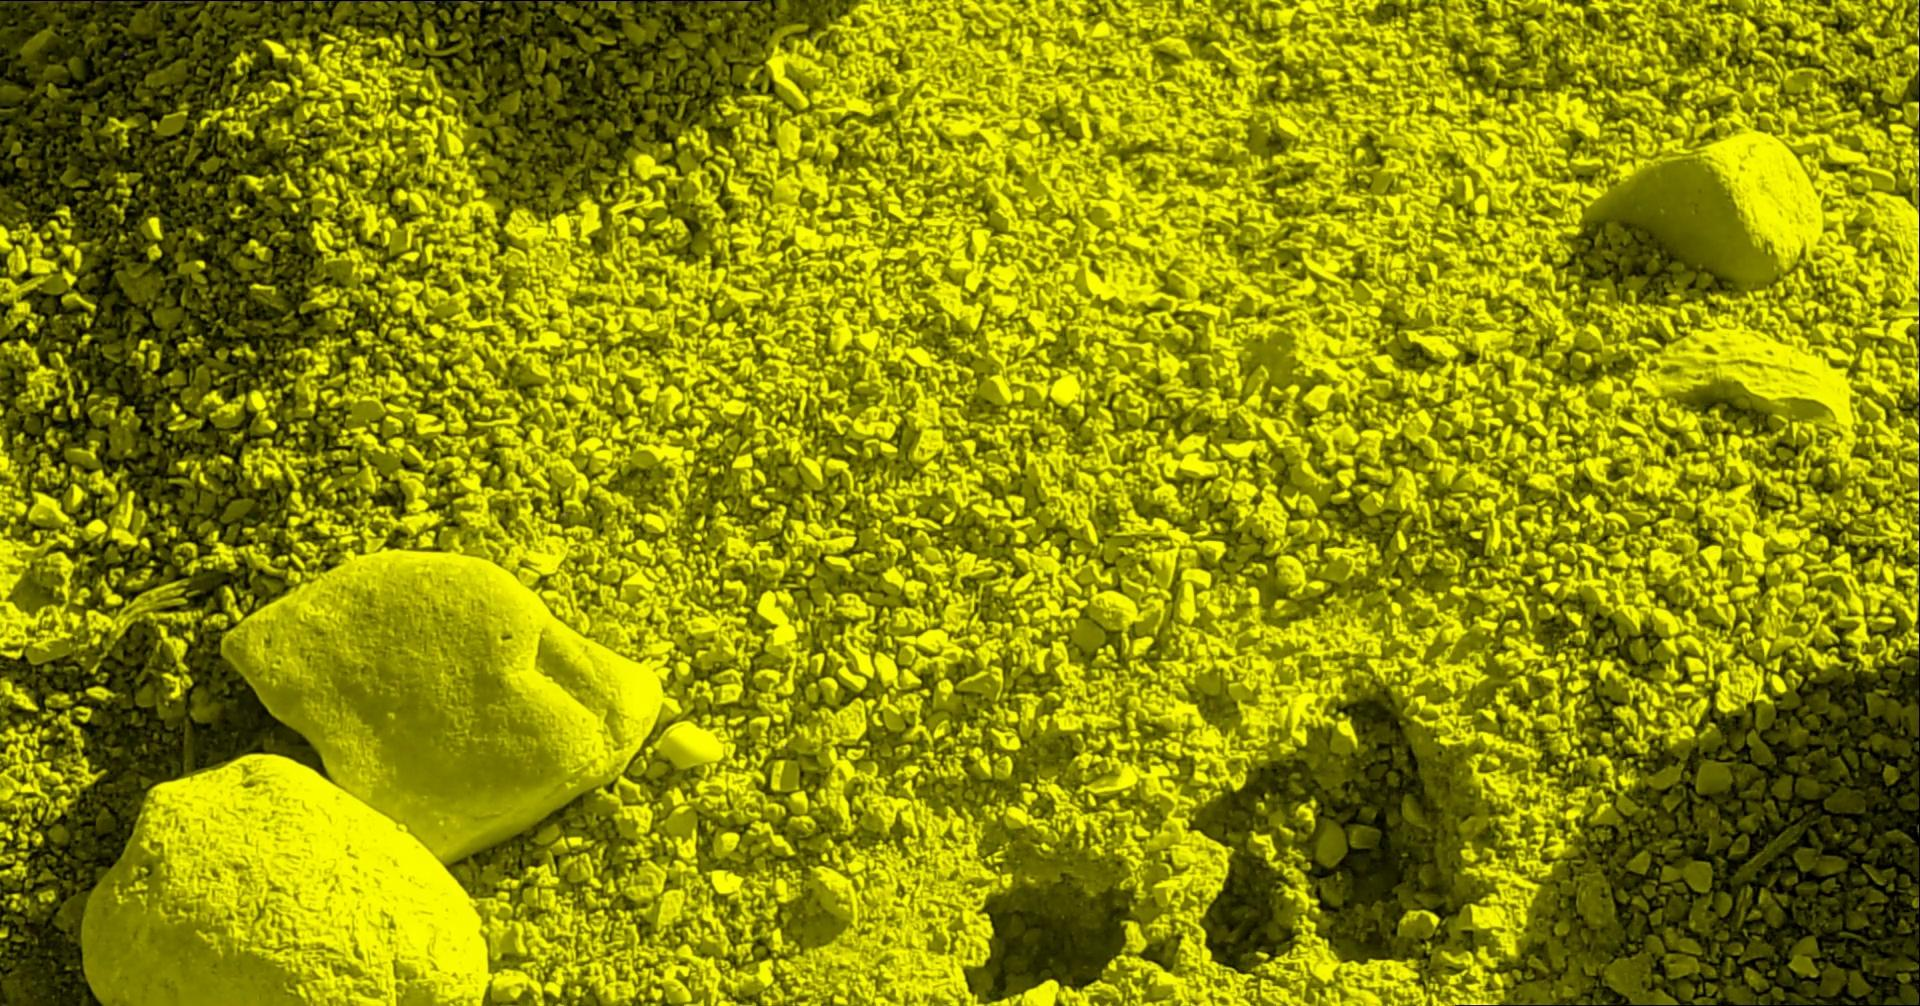ant: (149, 0, 201, 3), (0, 0, 58, 1)
